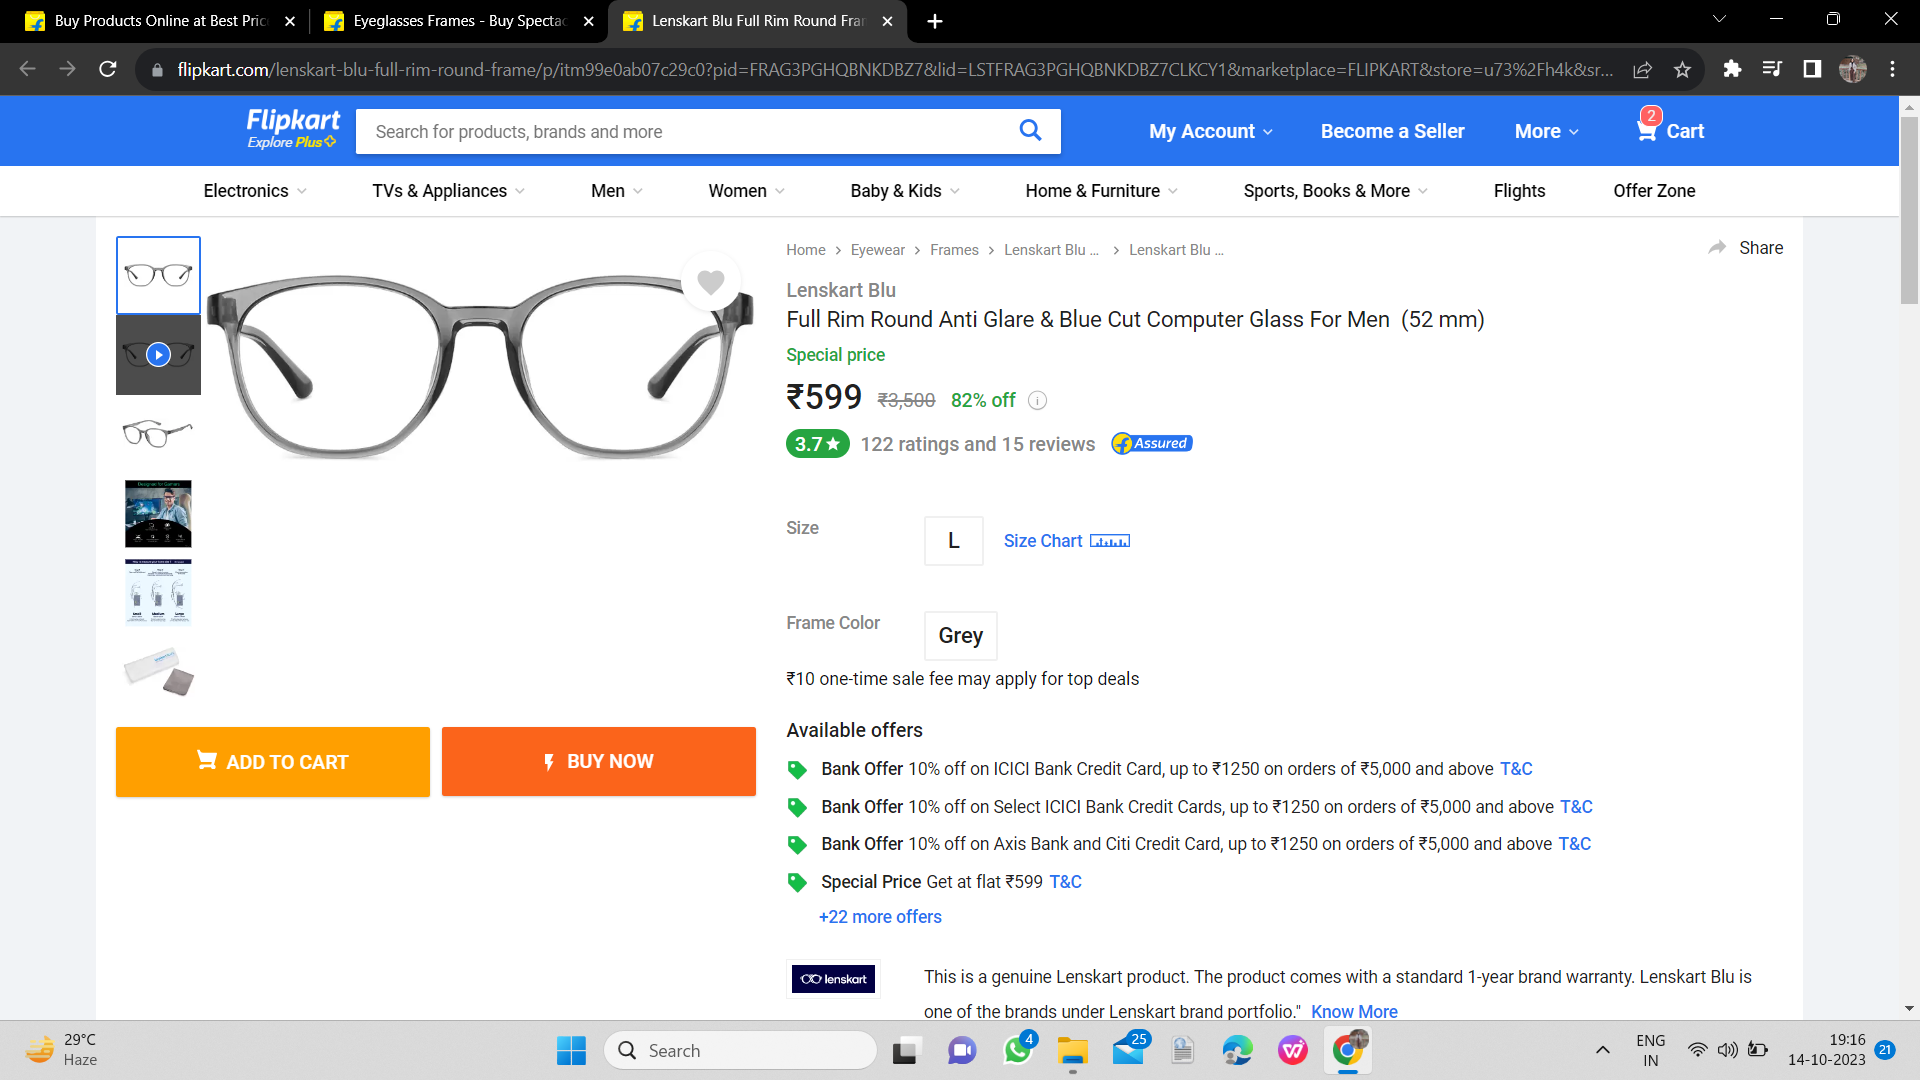Image: (207, 231, 760, 662)
Paragraph: (779, 746, 1605, 943), (109, 712, 766, 804), (779, 272, 1495, 343), (744, 963, 1638, 993), (1137, 105, 1713, 152), (773, 340, 1025, 421), (903, 506, 1137, 574), (773, 431, 1208, 462), (766, 662, 1141, 695), (922, 608, 1005, 665), (777, 715, 927, 737), (779, 604, 878, 632), (777, 518, 822, 535)
